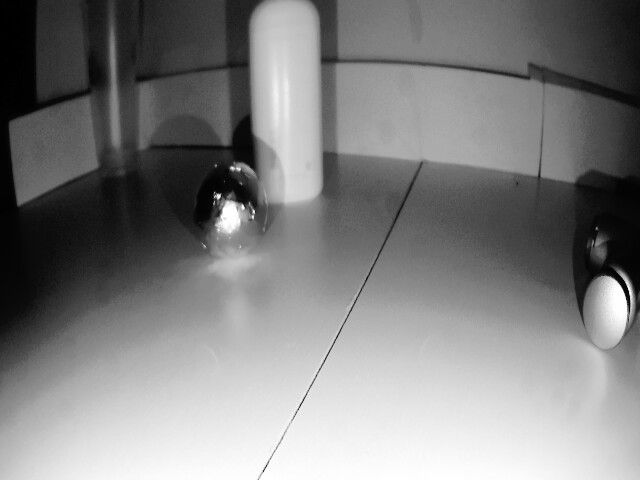silver: (200, 163, 267, 263)
